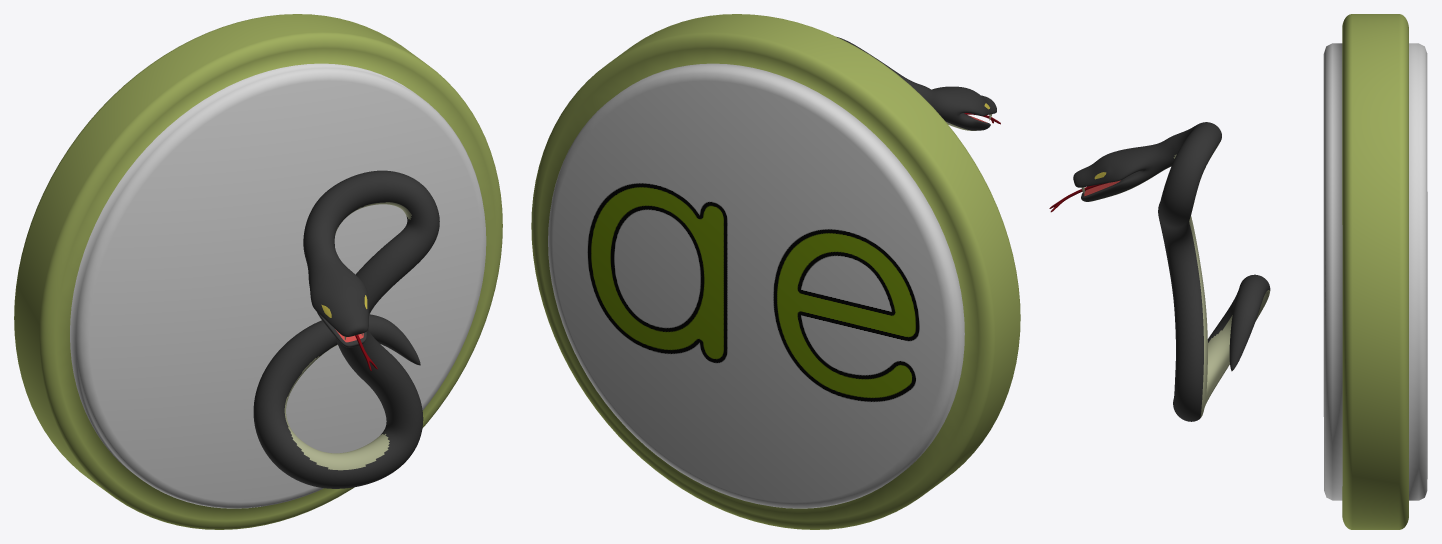
Rendered from snake4.gltf.
3 views of the same model, side by side, from view 1: azimuth 30°, elevation 25°; view 2: azimuth 150°, elevation 25°; view 3: azimuth 270°, elevation 25° (orthographic). The views are drawn at different scales.
Parts seen in each view (by area): view 1: coin, Cylinder; view 2: coin, Cylinder; view 3: coin, Cylinder.
Part boxes in pixels (x1=…): coin: x1=14, y1=14, x2=502, y2=529; Cylinder: x1=253, y1=170, x2=439, y2=488; coin: x1=531, y1=14, x2=1020, y2=529; Cylinder: x1=837, y1=37, x2=996, y2=130; coin: x1=1323, y1=14, x2=1427, y2=529; Cylinder: x1=1073, y1=122, x2=1270, y2=421.
Size of the model in its own units: 2.56 by 2.56 by 1.87.
8 materials, 1 textured.
